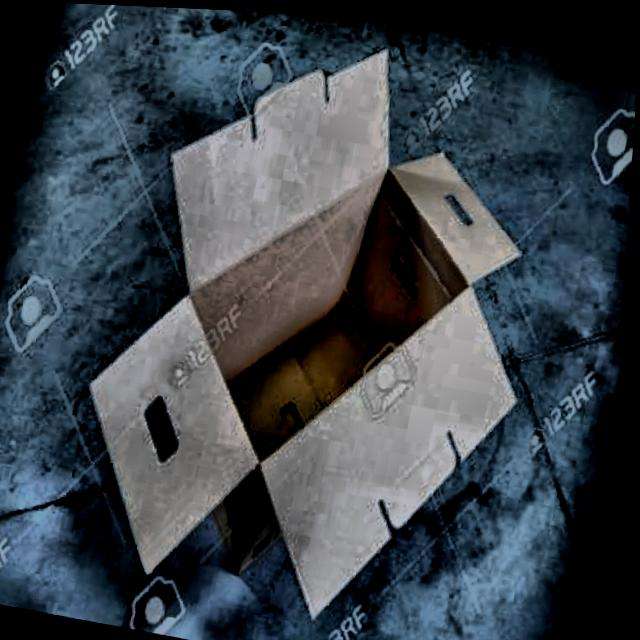Cardbox: (29, 2, 591, 640)
